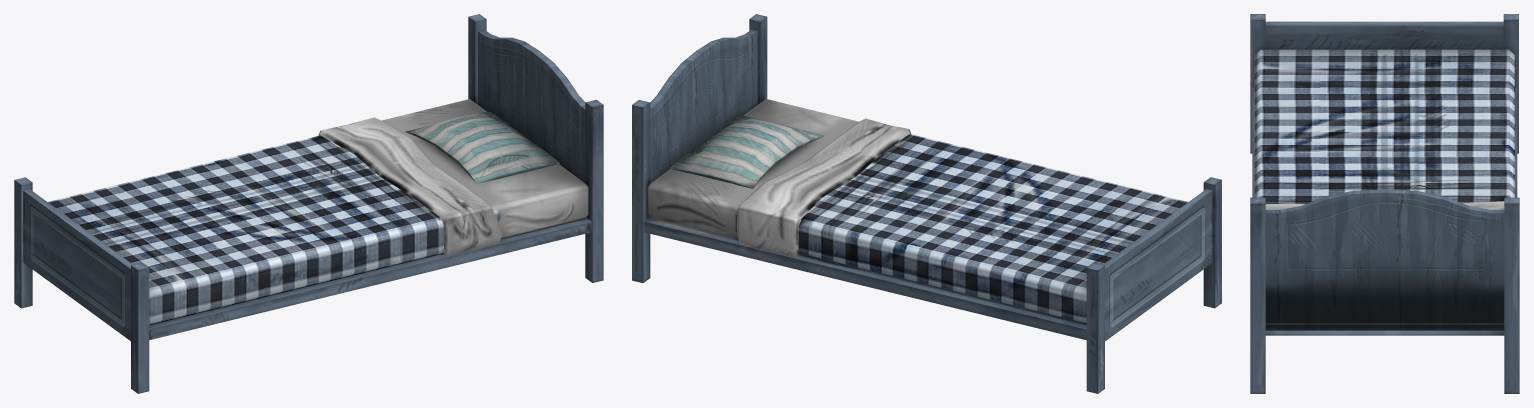
Rendered from kidBed.fbx.
3 views of the same model, side by side, from view 1: azimuth 30°, elevation 25°; view 2: azimuth 150°, elevation 25°; view 3: azimuth 270°, elevation 25° (orthographic). The views are drawn at different scales.
Parts seen in each view (by area): view 1: polySurface1742; view 2: polySurface1742; view 3: polySurface1742.
Part boxes in pixels (x1=…): polySurface1742: x1=14, y1=14, x2=603, y2=393; polySurface1742: x1=632, y1=14, x2=1221, y2=393; polySurface1742: x1=1250, y1=14, x2=1519, y2=393.
Size of the model in its own units: 265 by 100 by 123.
